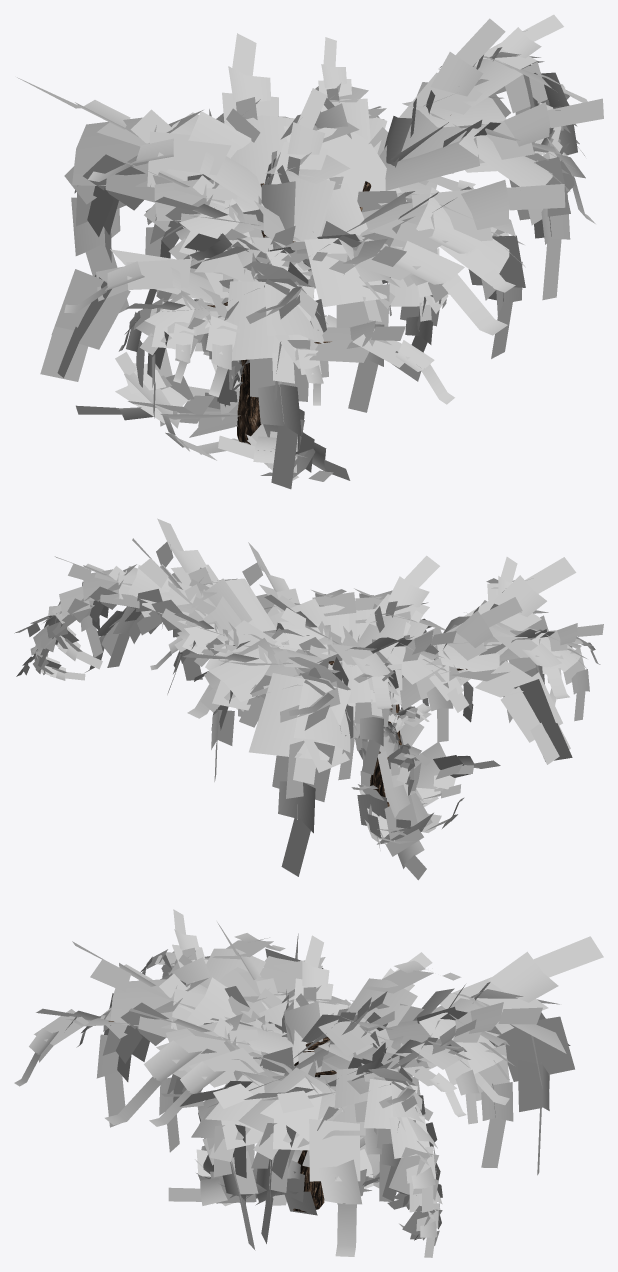
The model's file is grape_tree.fbx.
The picture shows the model from 3 angles, top to bottom: view 1: azimuth 30°, elevation 25°; view 2: azimuth 150°, elevation 25°; view 3: azimuth 270°, elevation 25°; orthographic projection. The views are drawn at different scales.
Visible parts, largest first — view 1: grape_tree; view 2: grape_tree; view 3: grape_tree.
Boxes of the visible parts, box(x1,y1,x2,y2) form: grape_tree: box(17, 14, 603, 489); grape_tree: box(14, 518, 603, 880); grape_tree: box(14, 909, 603, 1257).
Bounding box in the file's own units: 5.45 × 2.7 × 5.04.
